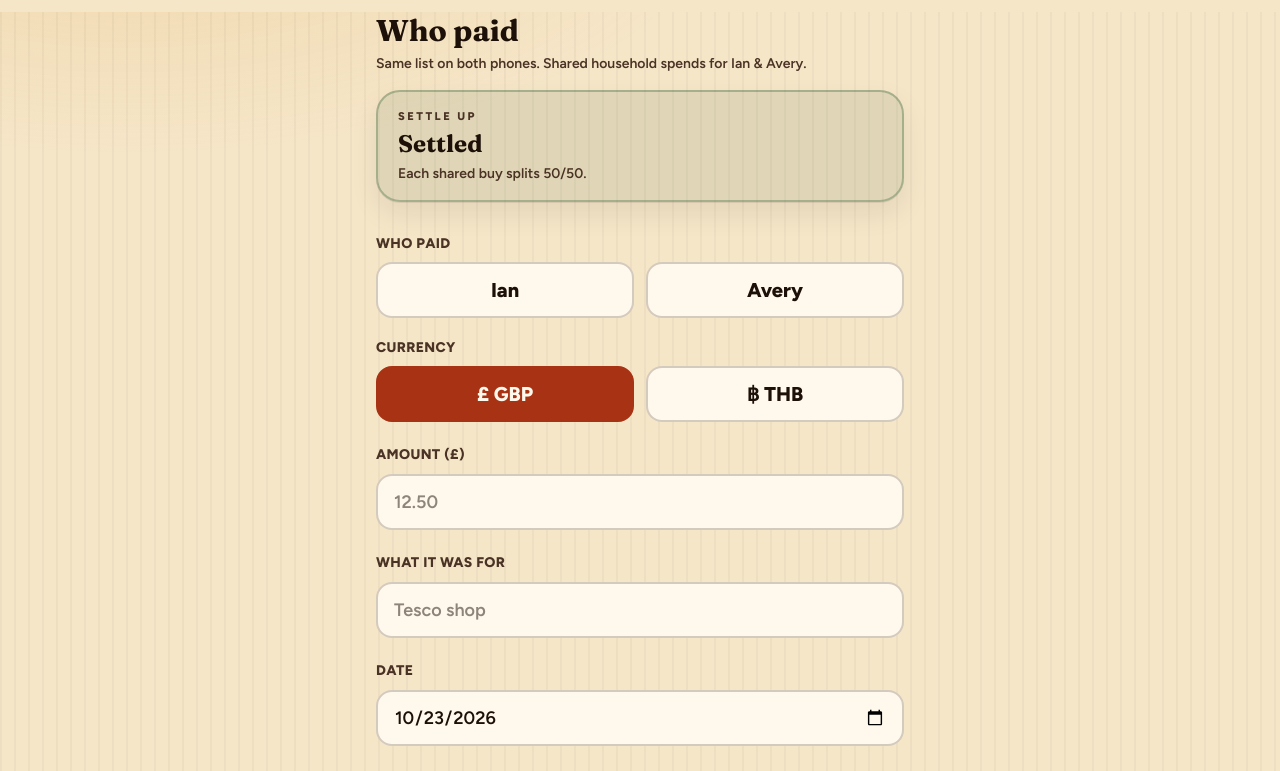
it: PaymentsTracker › previews the baht amount in pounds at the live rate
The image size is (1280, 771).
Click the button "฿ THB".
click(775, 394)  # box [646,366,904,422]
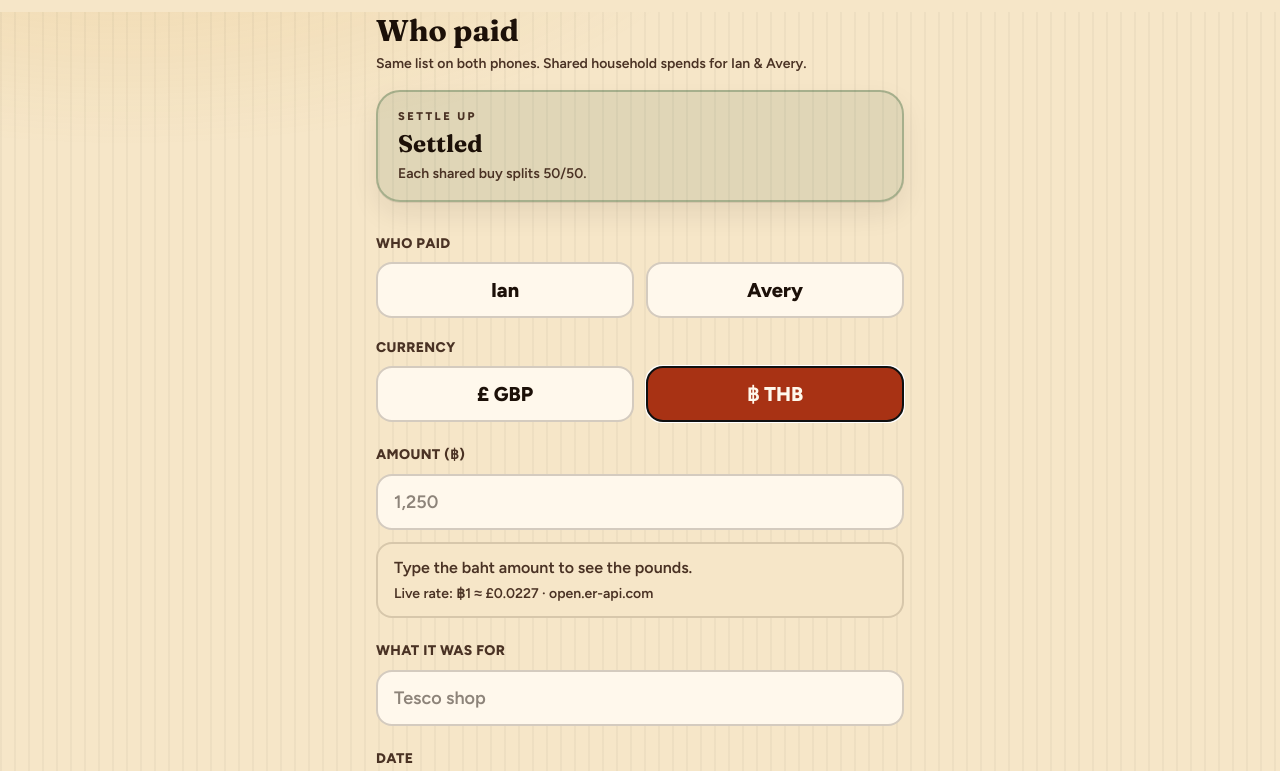
Type "1250" into the field labelled "Amount (฿)".
click(640, 502); type("1250")  # box [376,474,904,530]
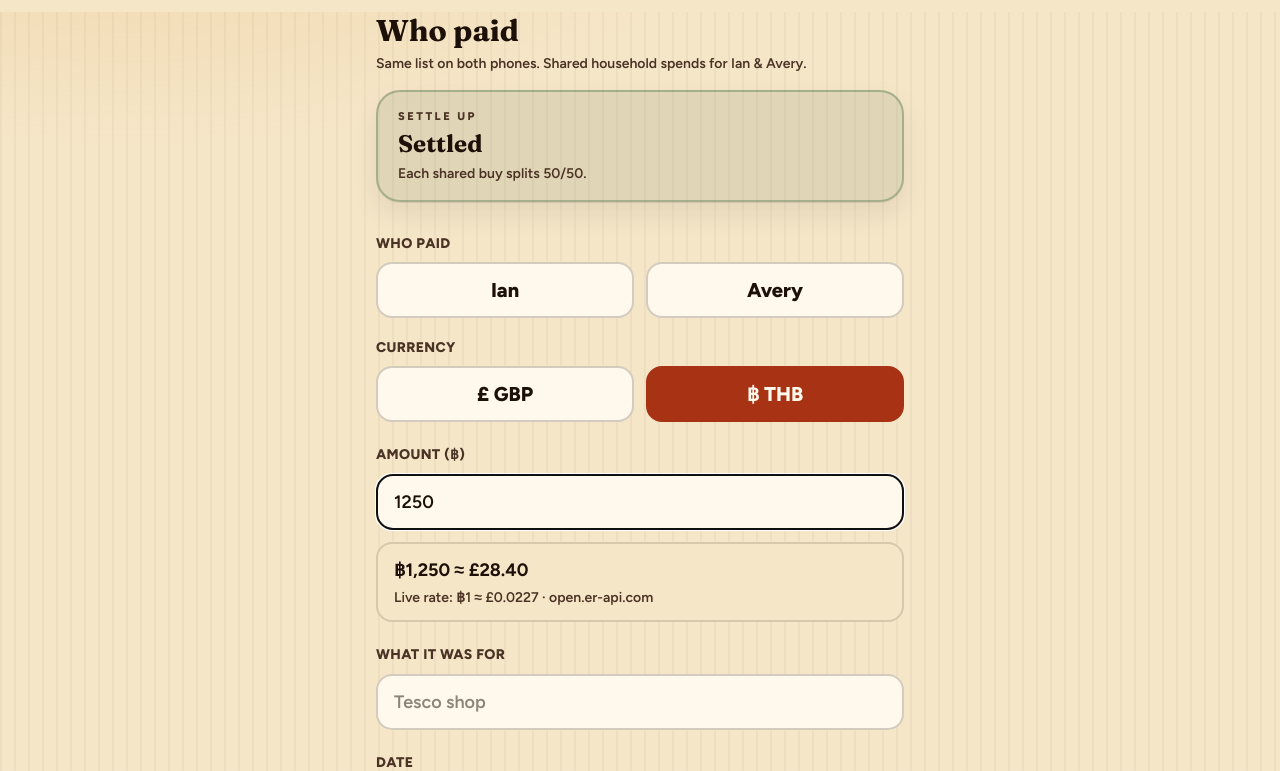
Expected: the text "Live rate: ฿1 ≈ £0.0227 · open.er-api.com" is shown, [394,589,653,606]
Expected: the text "฿1,250 ≈ £28.40" is shown, [394,559,528,581]
